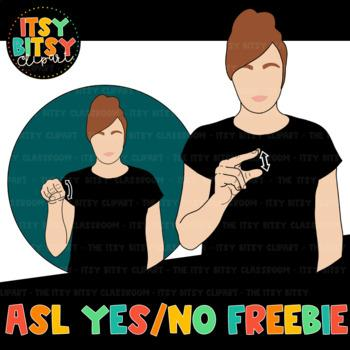No: (213, 144, 266, 219)
